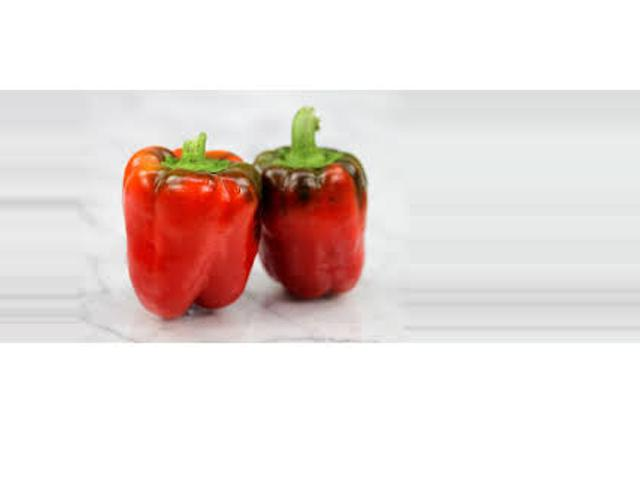bell_pepper: (99, 121, 255, 318)
